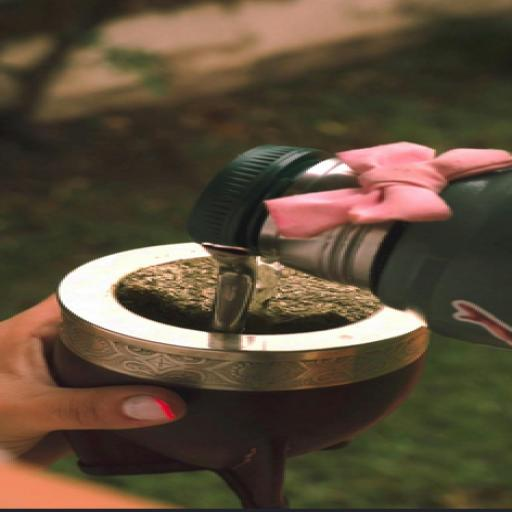mate: (55, 244, 429, 508)
termo: (189, 143, 511, 350)
